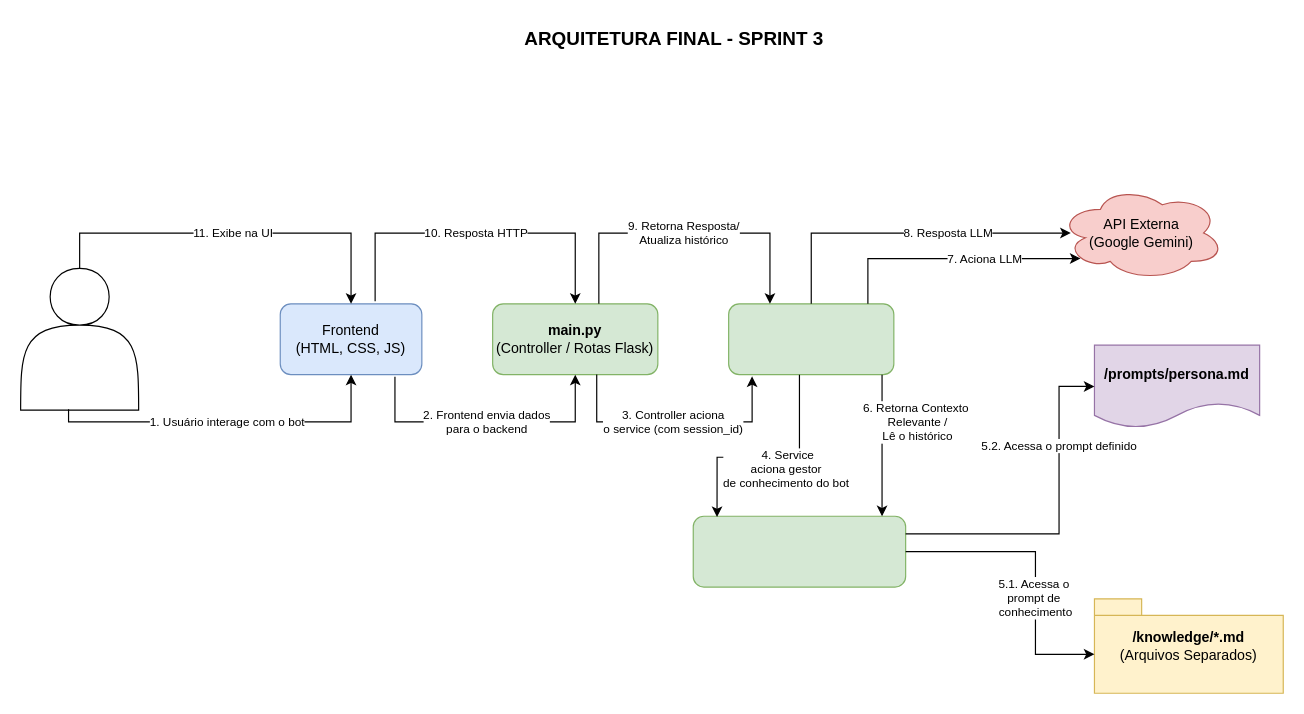
Some shapes in this 1304 by 714 pixel diagram are drawn without their labels. The centre of each missing label's shape, as x and y in pixels:
chat_service.py (Lógica de Negócio): point 810,339
knowledge_manager.py (Gerenciador de Conhecimento): point 799,551
Usuário (Navegador): point 79,338
